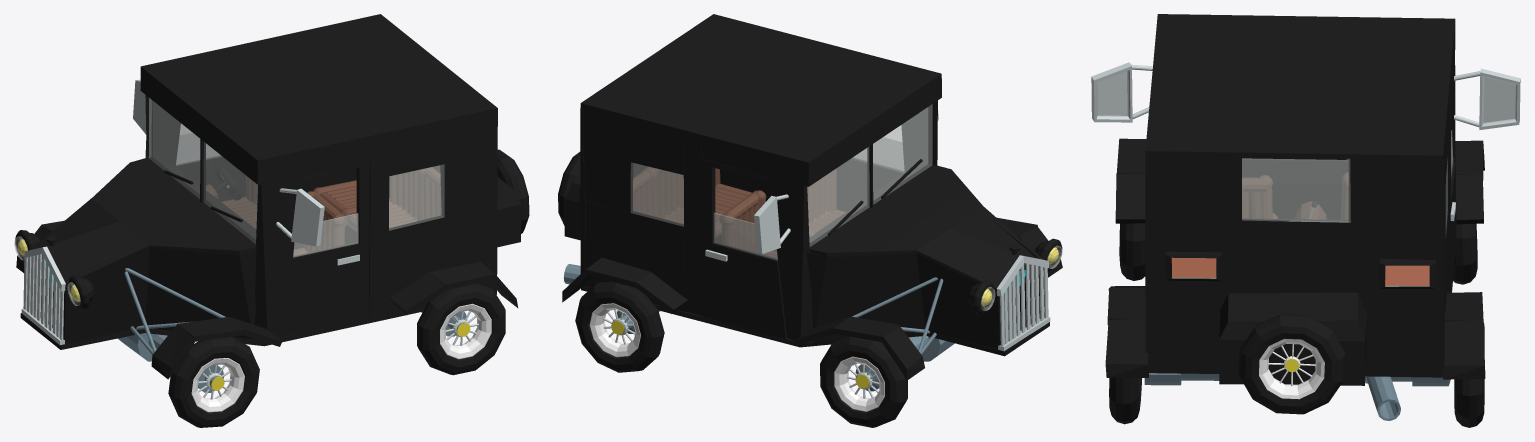
The model's file is OLDCAR.fbx.
The picture shows the model from 3 angles, left to right: view 1: azimuth 30°, elevation 25°; view 2: azimuth 150°, elevation 25°; view 3: azimuth 270°, elevation 25°; orthographic projection. The views are drawn at different scales.
Visible parts, largest first — view 1: group1643766101; view 2: group1643766101; view 3: group1643766101.
Part boxes in pixels (x1,y1,x2,y2): group1643766101: [14, 14, 529, 427]; group1643766101: [558, 14, 1062, 427]; group1643766101: [1091, 14, 1520, 427].
Size of the model in its own units: 460 by 237 by 310.
